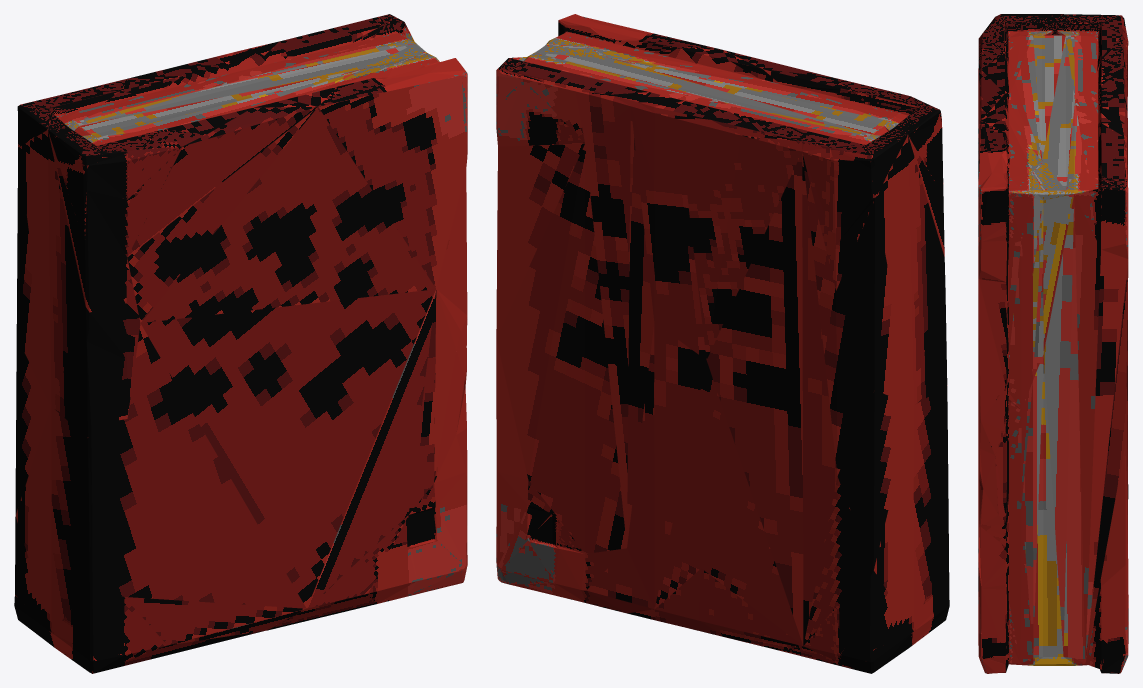
3 views of the same model, side by side, from view 1: azimuth 30°, elevation 25°; view 2: azimuth 150°, elevation 25°; view 3: azimuth 270°, elevation 25° (orthographic). The views are drawn at different scales.
Visible parts, largest first — view 1: OBJ130; view 2: OBJ130; view 3: OBJ130.
Boxes of the visible parts, box(x1,y1,x2,y2) form: OBJ130: box(14, 14, 467, 673); OBJ130: box(496, 14, 949, 673); OBJ130: box(978, 14, 1128, 673).
Size of the model in its own units: 0.2807 by 0.3649 by 0.102.
Materials: 1 (1 with a texture image).
